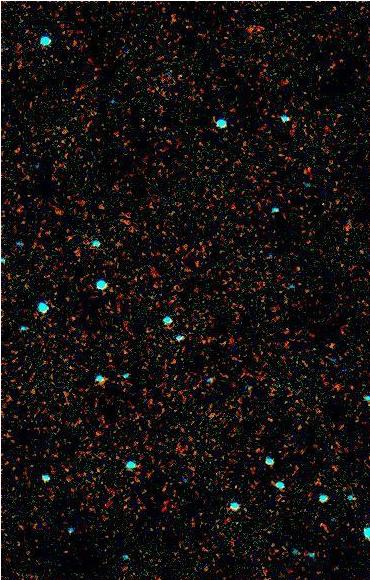star: (314, 330, 344, 360)
